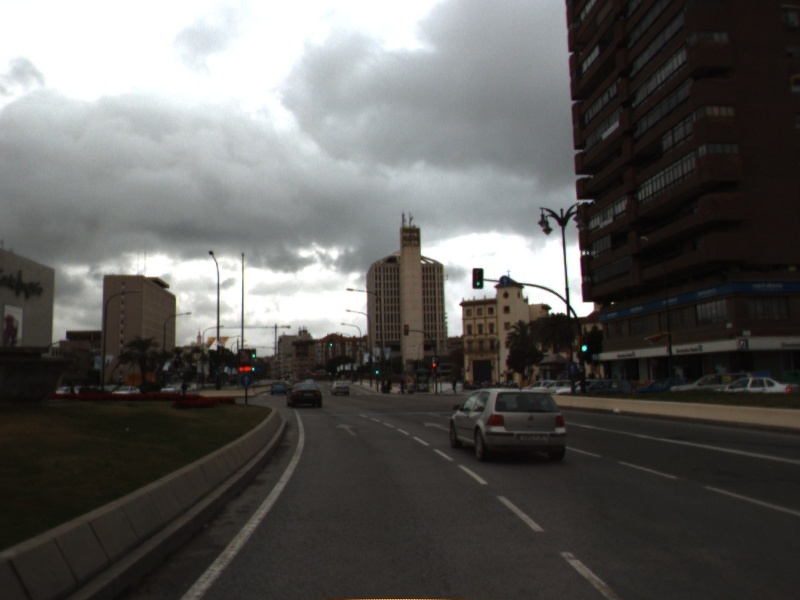STRAIGHT: (334, 421, 359, 438), (422, 419, 452, 433)
